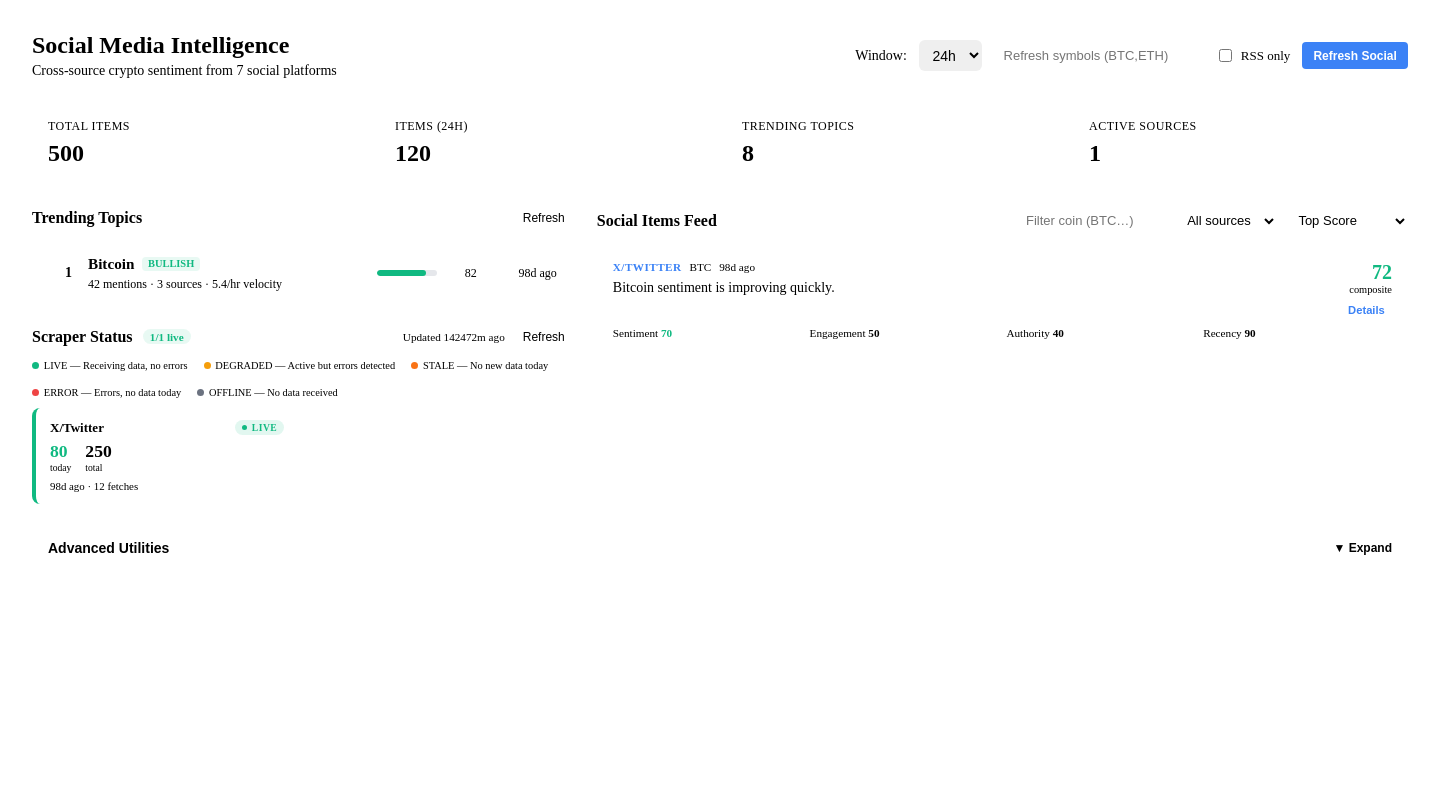
Scenario: SocialDashboard › queues a social refresh and preserves filter input state
Type "btc" into the field with placeholder "Filter coin (BTC…)".
click(1091, 221); type("btc")  # box [1016,208,1166,234]
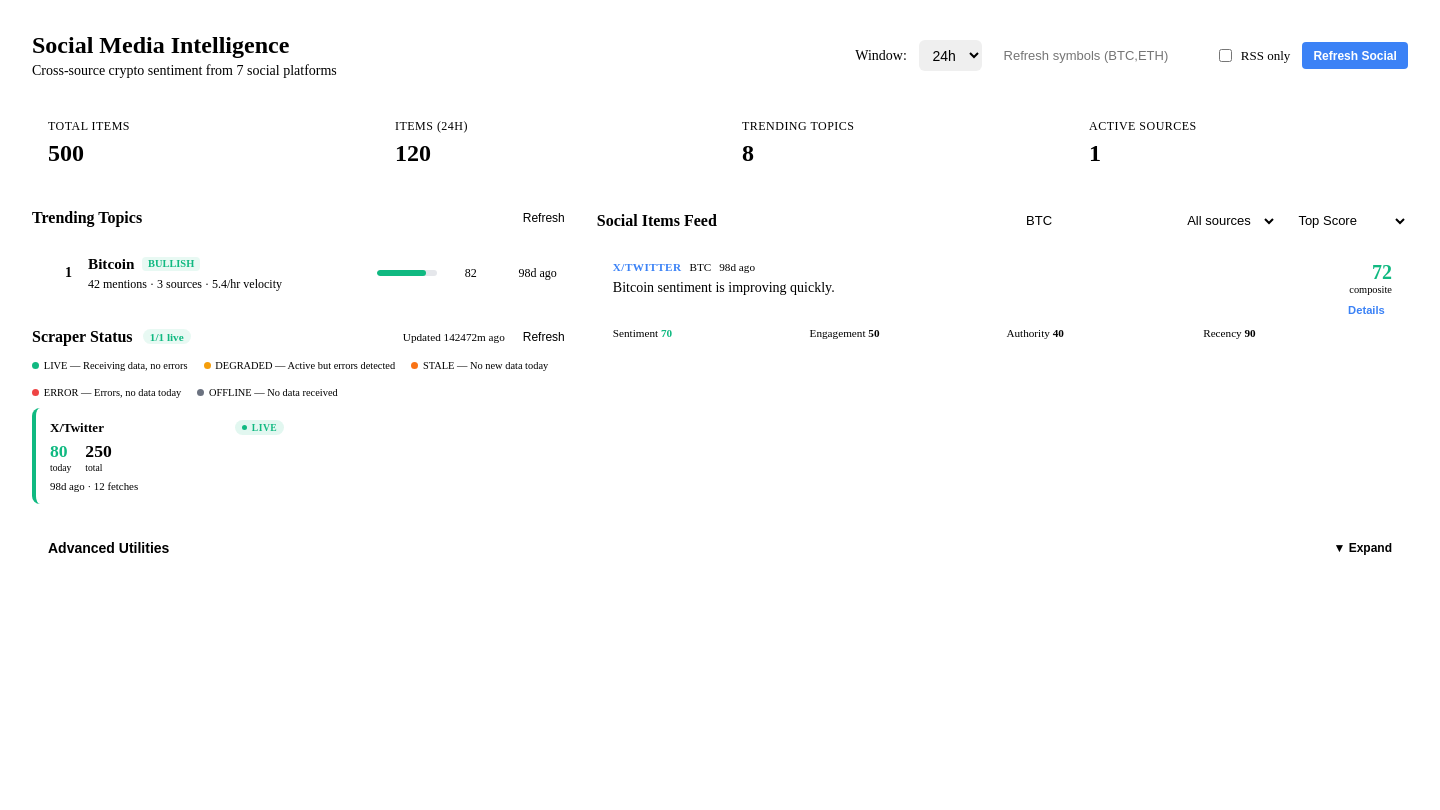
Type "BTC,ETH" into the field labelled "Refresh symbols".
click(1099, 56); type("BTC,ETH")  # box [994,42,1203,69]
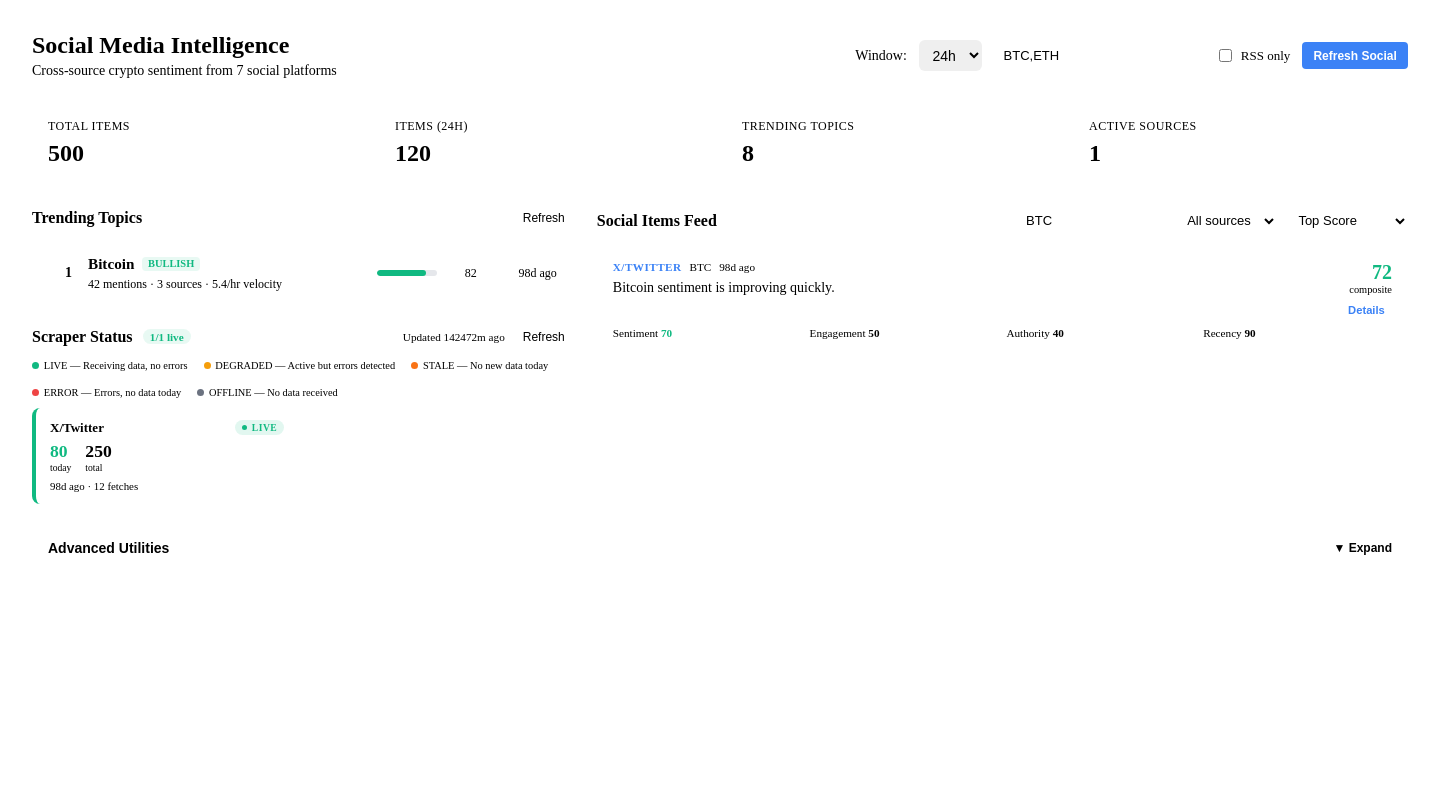
Click the button "Refresh Social".
click(1355, 56)  # box [1302,42,1408,69]
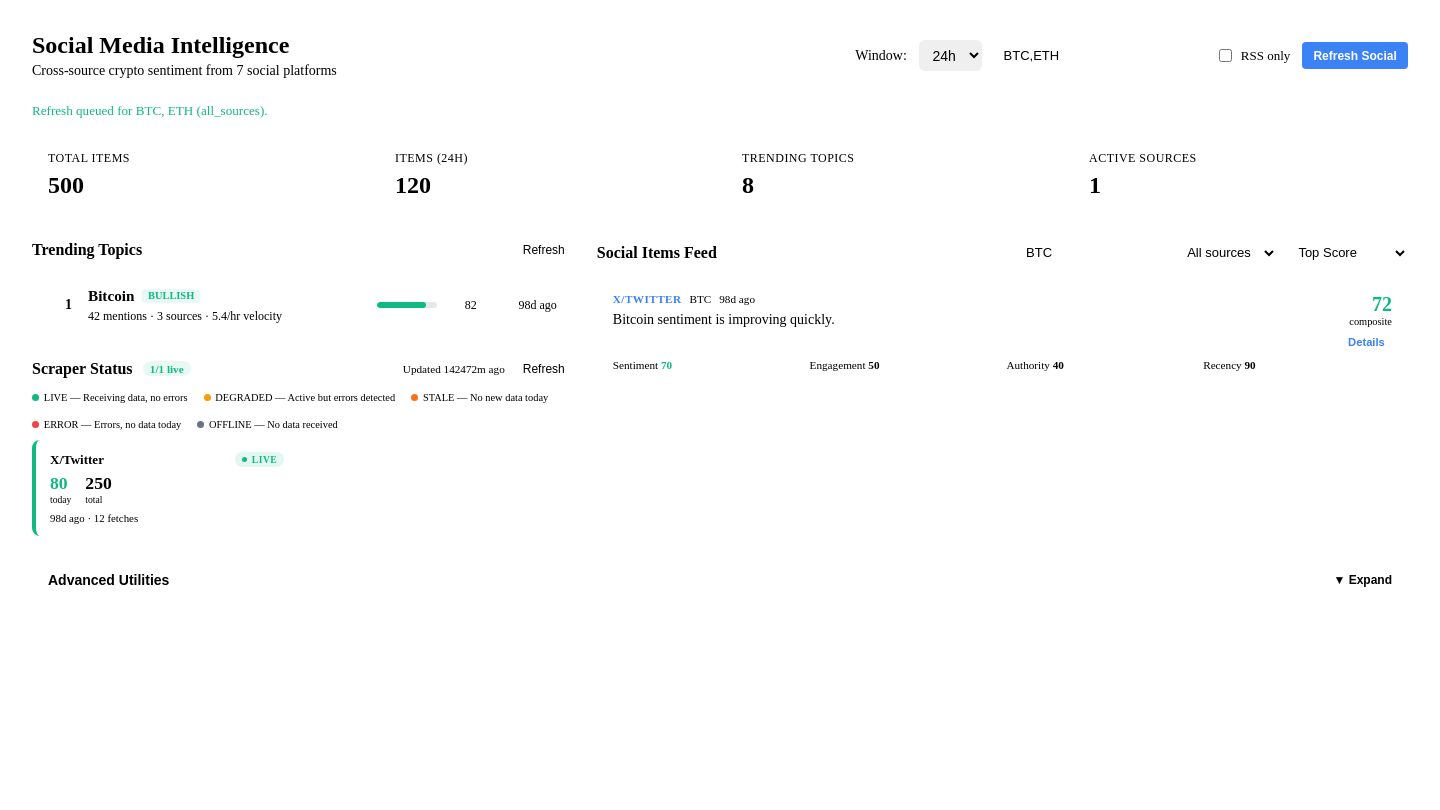
Expected: the text "Refresh queued for BTC, ETH (all_sources)." is shown, [32,103,268,118]
